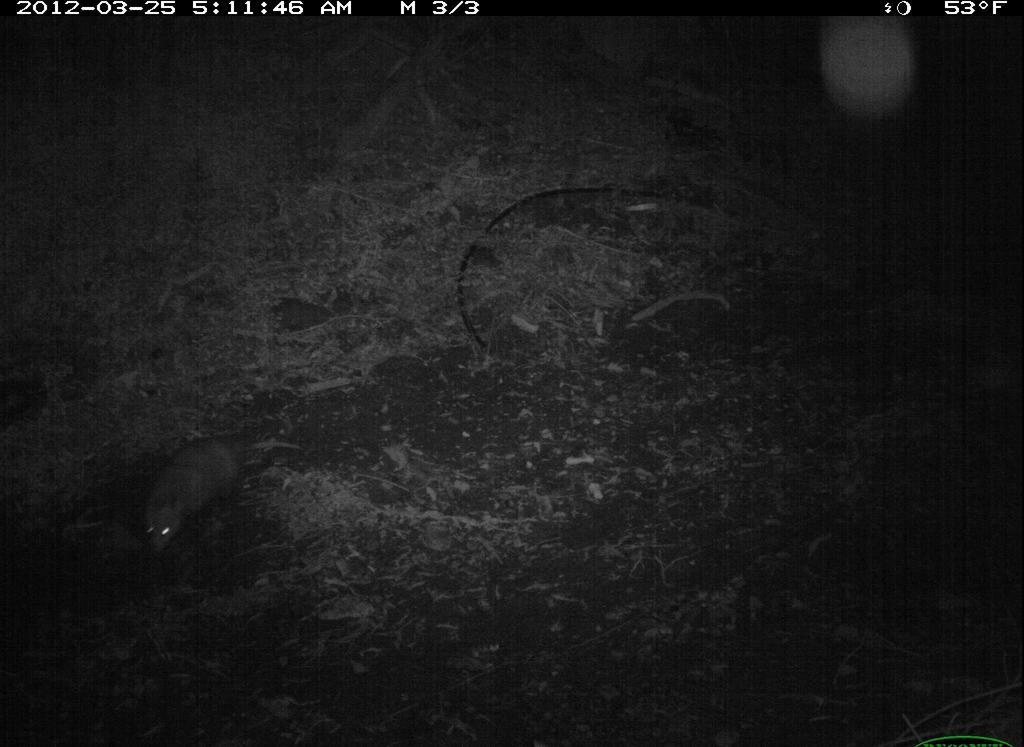opossum: (118, 429, 317, 560)
